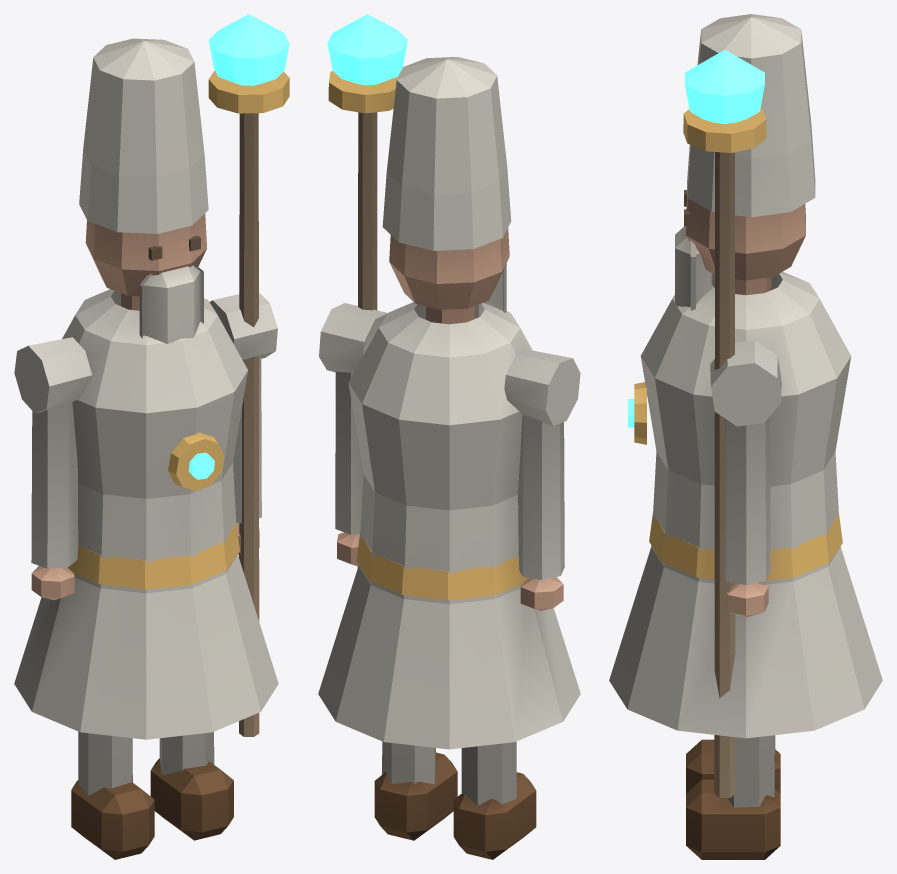
Rendered from unit_zhrec.glb.
3 views of the same model, side by side, from view 1: azimuth 30°, elevation 25°; view 2: azimuth 150°, elevation 25°; view 3: azimuth 270°, elevation 25° (orthographic). The views are drawn at different scales.
Visible parts, largest first — view 1: unit_zhrec; view 2: unit_zhrec; view 3: unit_zhrec.
Boxes of the visible parts, x1,y1,x2,y2 form: unit_zhrec: [14, 14, 289, 859]; unit_zhrec: [318, 14, 580, 859]; unit_zhrec: [609, 14, 882, 859].
Size of the model in its own units: 0.275 by 0.87 by 0.26.
